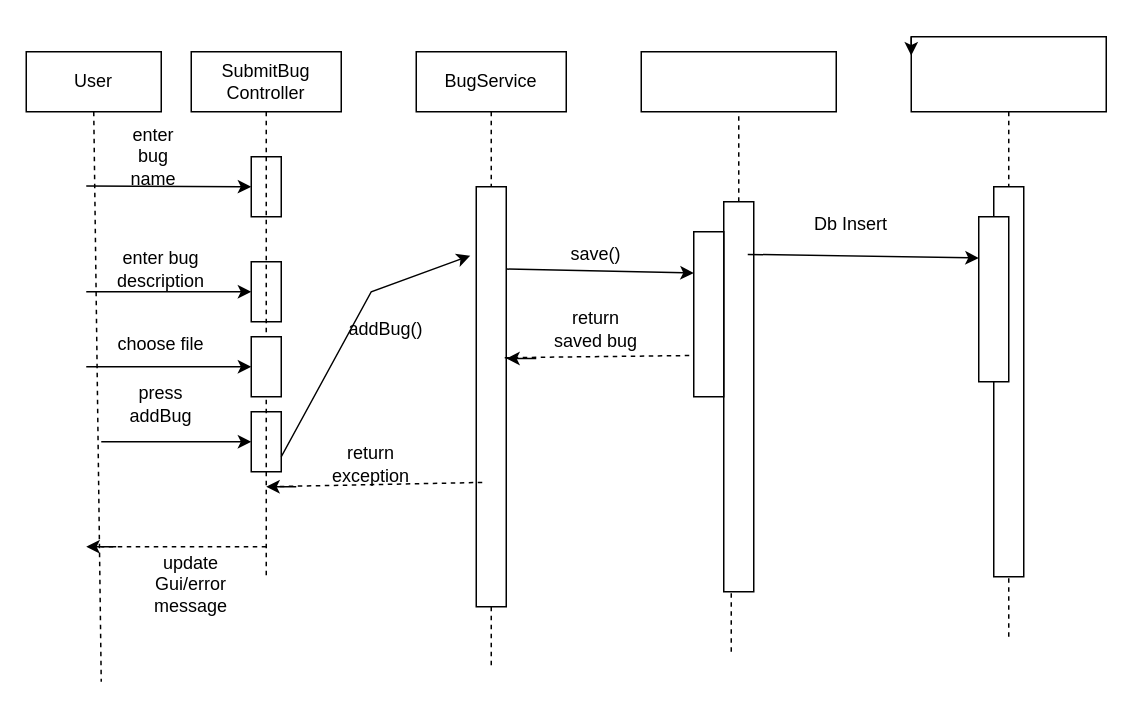
This 1133x710 diagram has some shape labels left out. The centre of each missing label's shape, as x and y in pixels:
Database: point (1008, 73)
DbBugRepo: point (738, 81)
